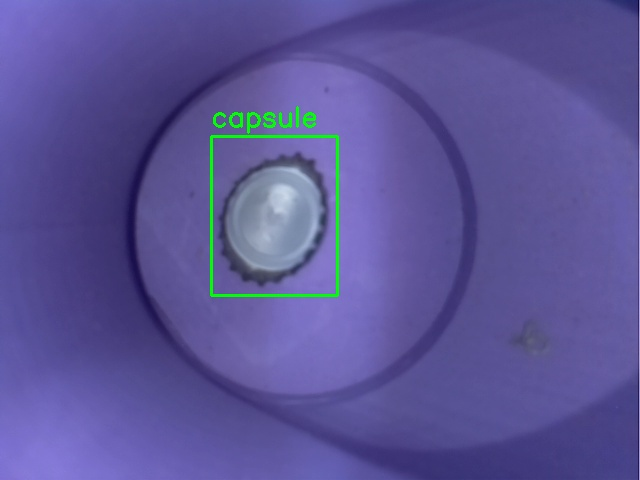capsule: (211, 136, 337, 295)
